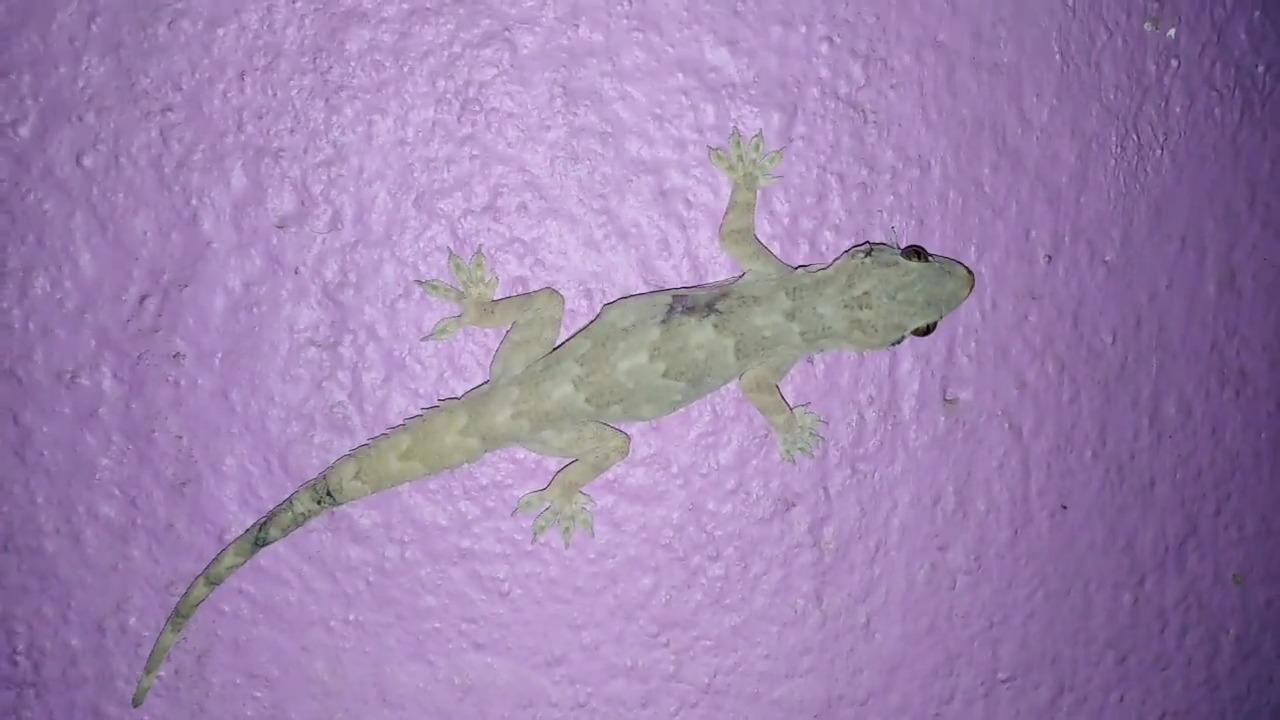lizard: (102, 92, 1003, 720)
